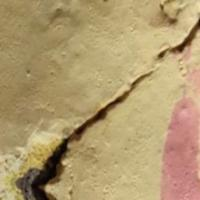crack: (18, 14, 199, 199)
